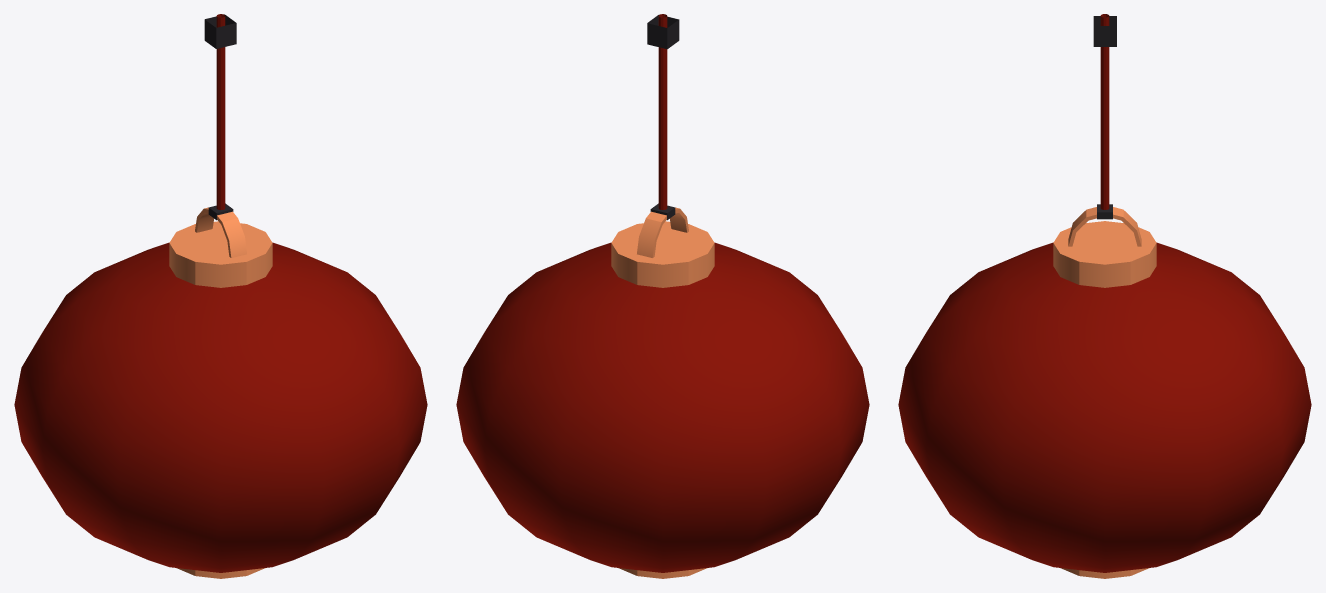
File: Lantern011.fbx
The picture shows the model from 3 angles, left to right: view 1: azimuth 30°, elevation 25°; view 2: azimuth 150°, elevation 25°; view 3: azimuth 270°, elevation 25°; orthographic projection.
Parts seen in each view (by area): view 1: Lantern011; view 2: Lantern011; view 3: Lantern011.
Part boxes in pixels (box(x1,y1,x2,y2)): Lantern011: box(14, 14, 427, 578); Lantern011: box(456, 14, 869, 578); Lantern011: box(898, 14, 1311, 578).
Size of the model in its own units: 190 by 275 by 190.
